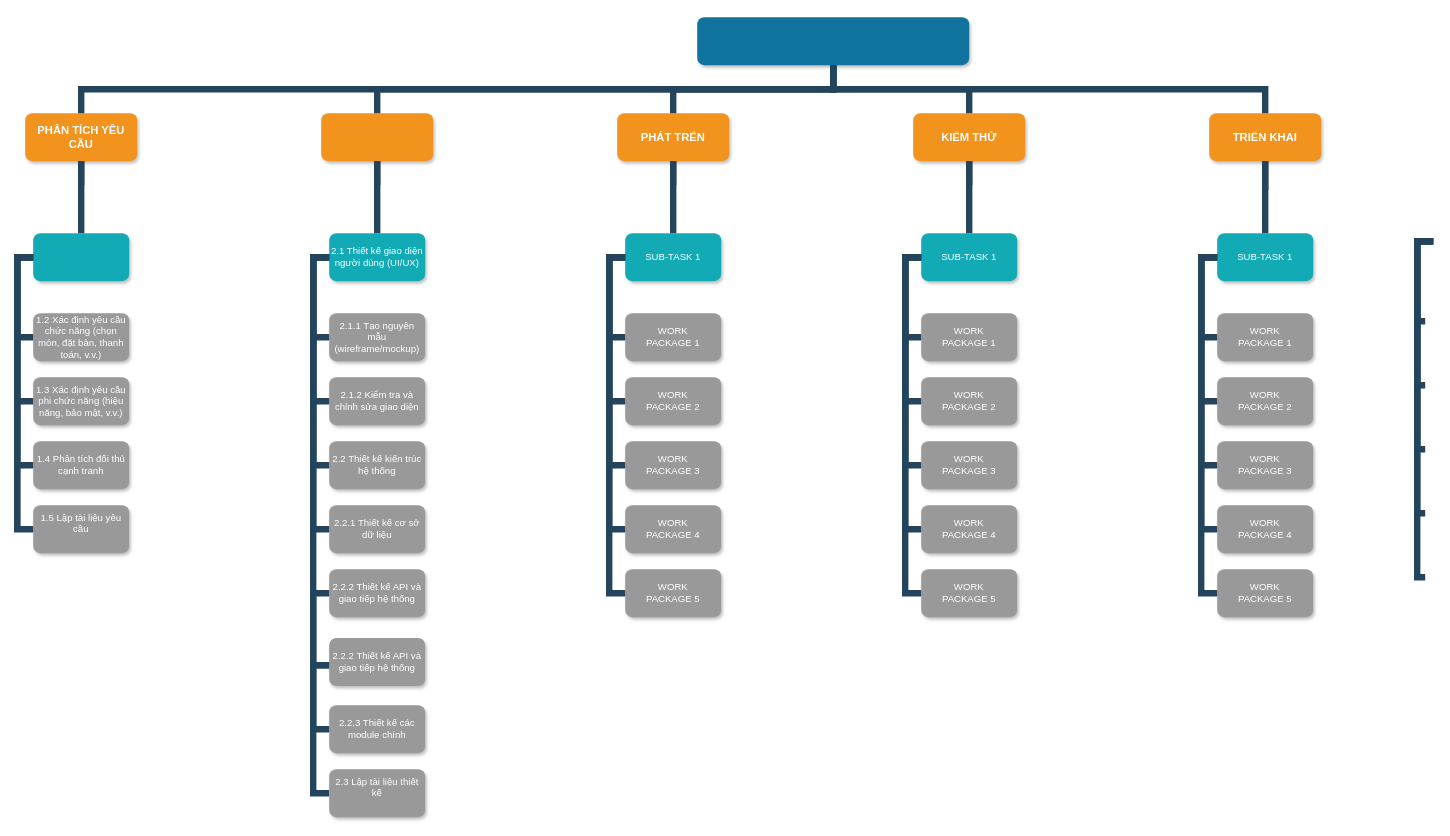
This 1450x836 diagram has some shape labels left out. The shapes that lost their labels are listed below. From the top down, each one's centre as x and y in pixels, then its label:
At (834,42): "RESTAURANT MENU APP".
At (378,138): "THIẾT KẾ".
At (82,258): "1.1 Thu thập yêu cầu từ khách hàng".
